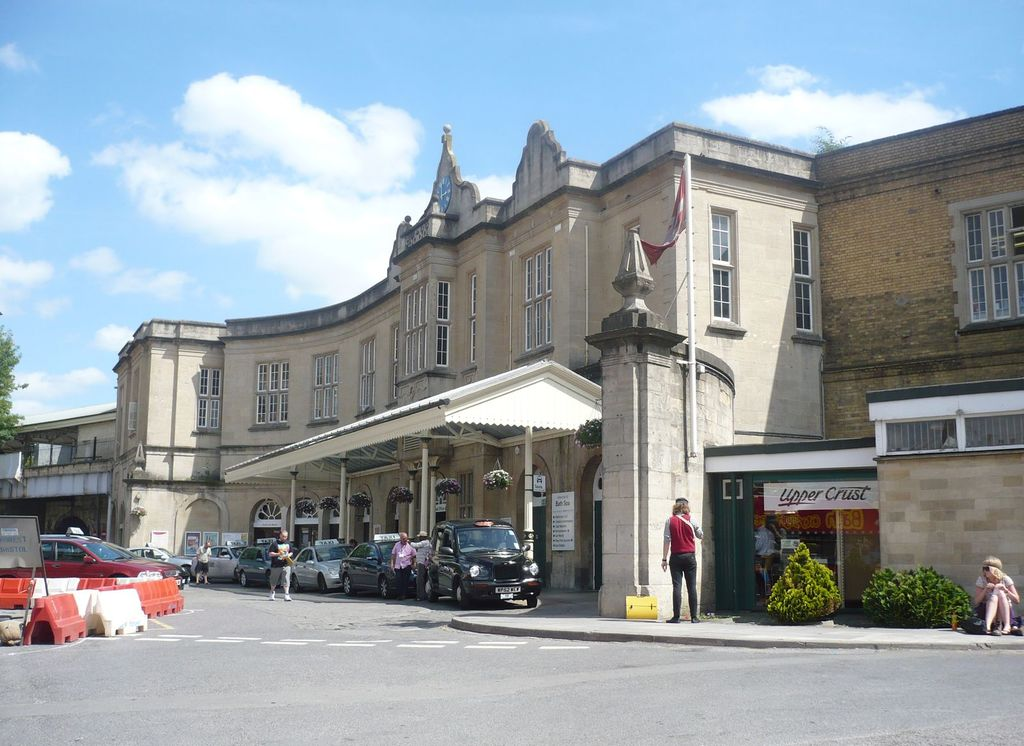Car: (35, 514, 541, 610)
